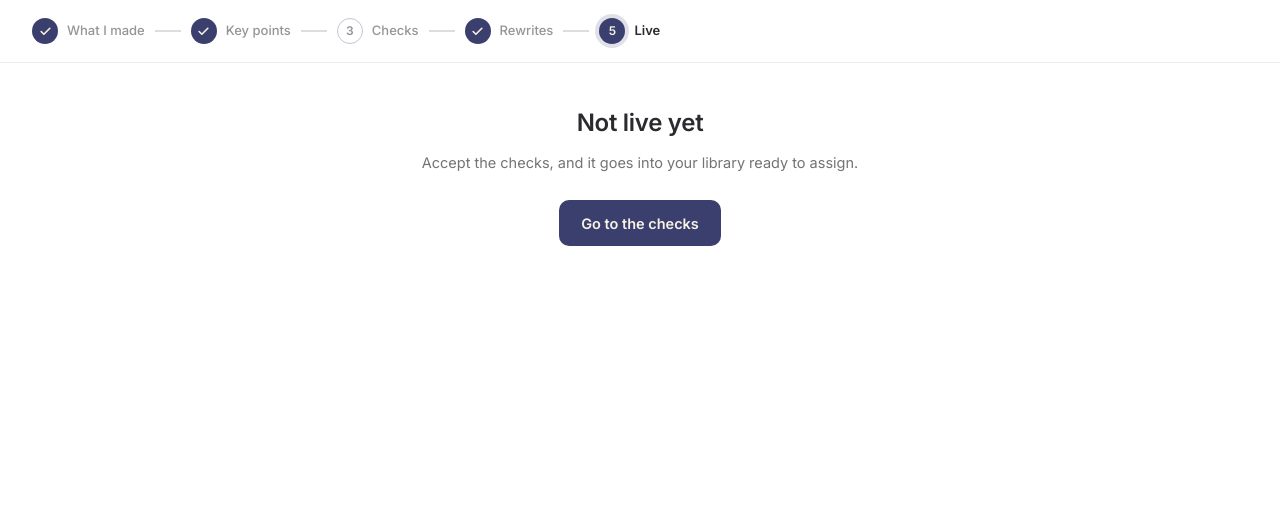
Test: live, with checks › names the checks as what is left, and goes to them
Expected: the navigation bar named "Lesson review steps" is shown, [0, 0, 1279, 63]
Expected: the text "Accept the checks, and it goes into your library ready to assign." is shown, [422, 152, 858, 174]
Click the button "Go to the checks". click: (640,224)
box: [559, 200, 721, 246]
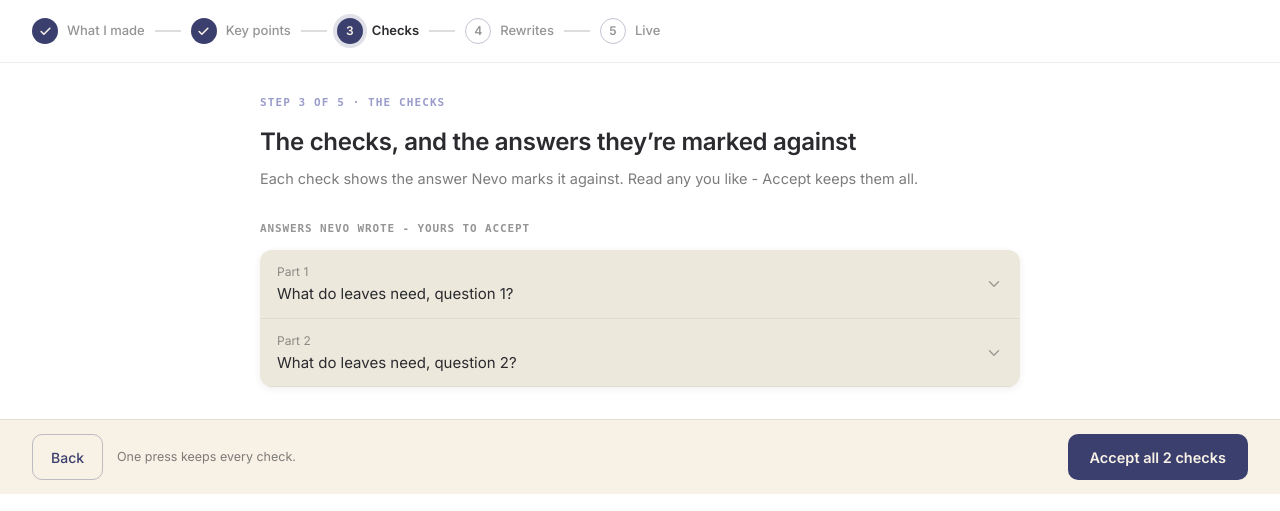
Expected: the text "Step 3 of 5 · the checks" is shown, [260, 96, 445, 109]
